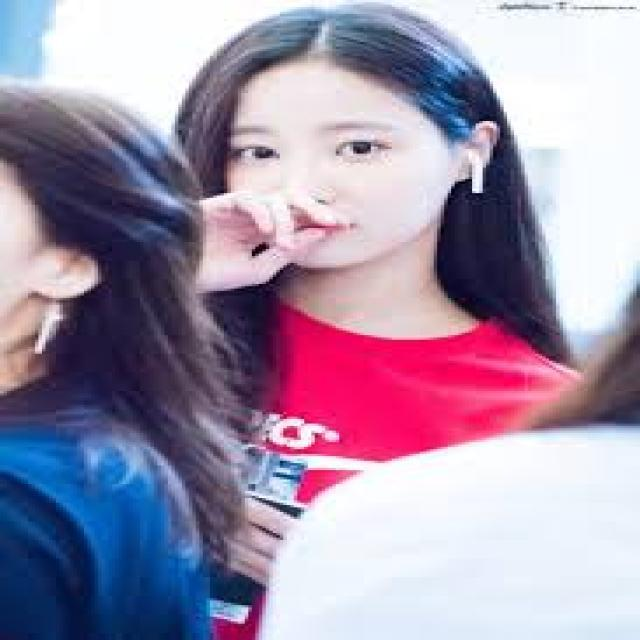earphone: (455, 144, 500, 198)
